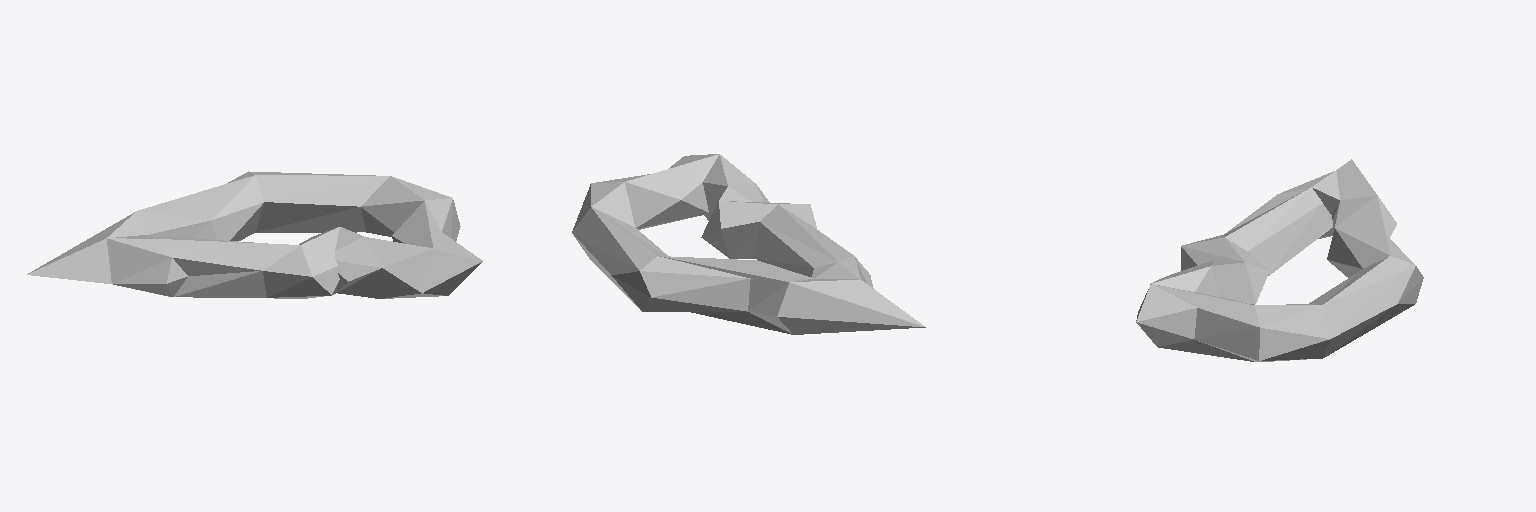
The model's file is BE_outline.obj.
The picture shows the model from 3 angles: view 1: azimuth 30°, elevation 25°; view 2: azimuth 150°, elevation 25°; view 3: azimuth 270°, elevation 25°; orthographic projection.
Parts seen in each view (by area): view 1: BE.001_CUCurve.1637; view 2: BE.001_CUCurve.1637; view 3: BE.001_CUCurve.1637.
Boxes of the visible parts, x1=… form: BE.001_CUCurve.1637: x1=27, y1=171, x2=482, y2=298; BE.001_CUCurve.1637: x1=572, y1=154, x2=925, y2=334; BE.001_CUCurve.1637: x1=1136, y1=159, x2=1423, y2=361.
Size of the model in its own units: 0.03 by 0.004 by 0.0192.